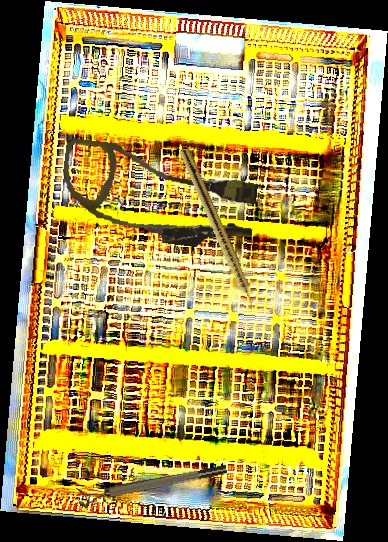Cannula: (56, 137, 261, 254)
Fixation Ring: (76, 462, 229, 509)
Handpiece: (175, 147, 260, 312)
